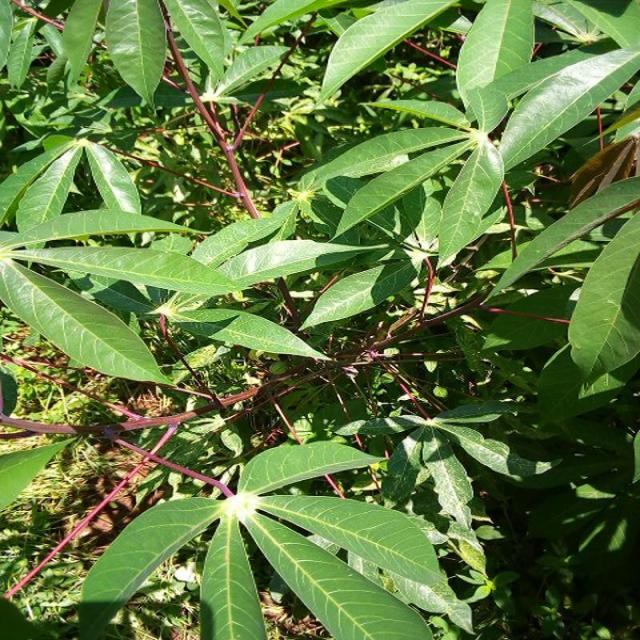cassava leaf: (78, 437, 471, 638)
